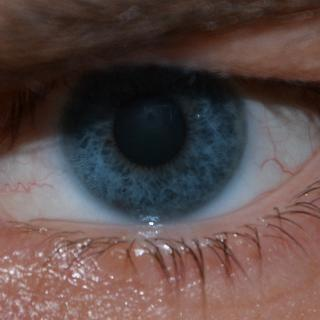pupil: (112, 94, 185, 167)
